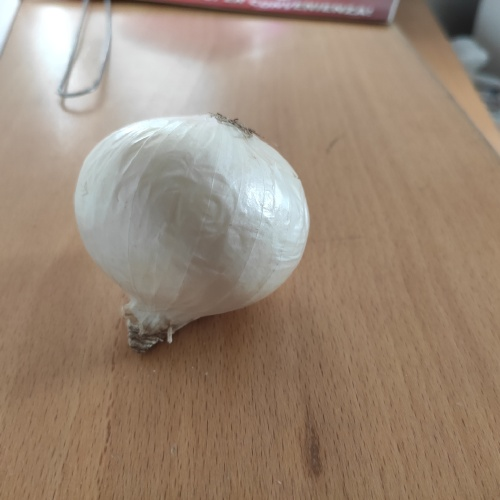cipolla: (65, 105, 321, 361)
